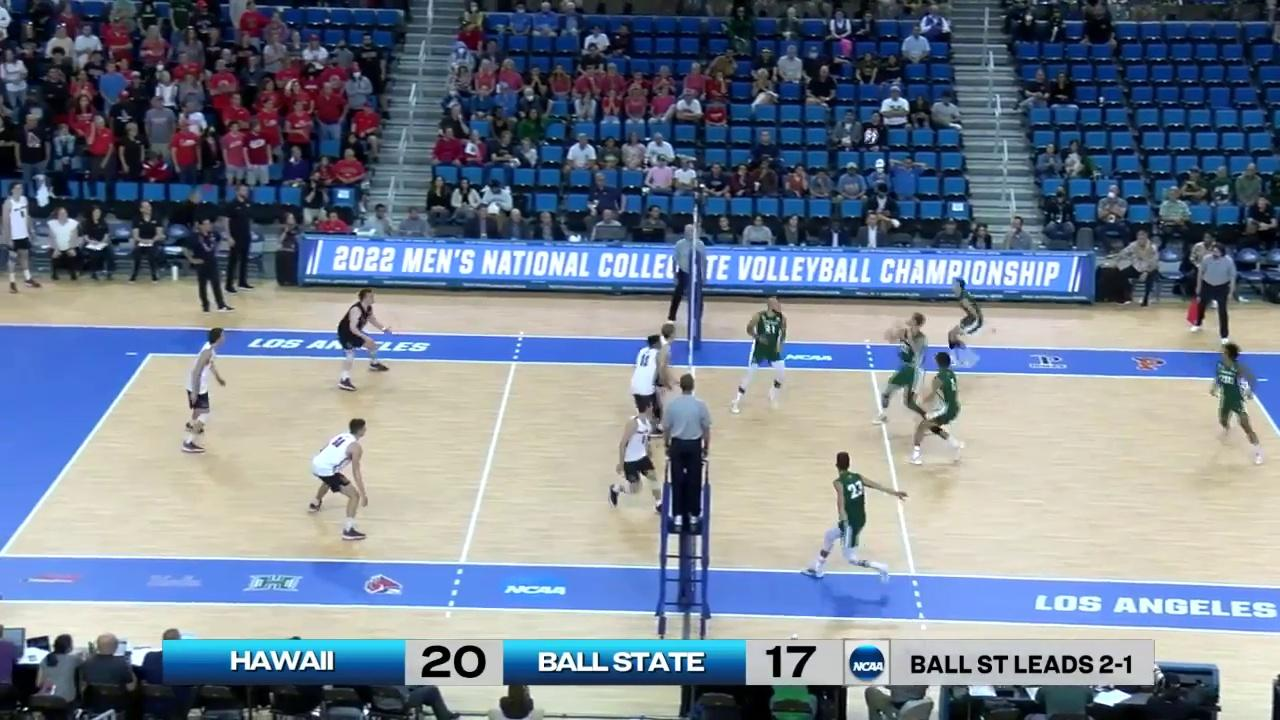player: (803, 452, 899, 583), (307, 419, 369, 539), (732, 295, 789, 414), (907, 353, 966, 466), (874, 312, 930, 430), (1212, 345, 1265, 467), (609, 402, 661, 516), (182, 328, 227, 458), (334, 287, 389, 388), (629, 335, 665, 440), (946, 277, 986, 369), (647, 324, 676, 427)
refree: (658, 375, 713, 505), (1190, 244, 1232, 343), (671, 225, 704, 328)
